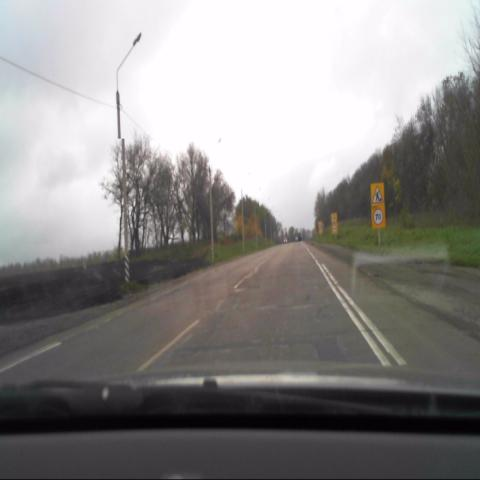1_25: (371, 184, 384, 205)
